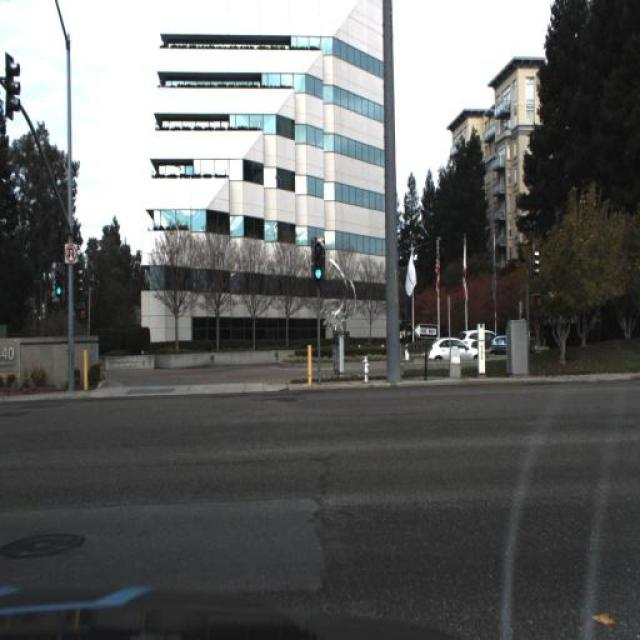car: (460, 326, 504, 362), (428, 336, 479, 365)
trafficLight-GreenLeft: (308, 226, 332, 302), (49, 266, 70, 315), (310, 239, 324, 282), (54, 273, 67, 303)
